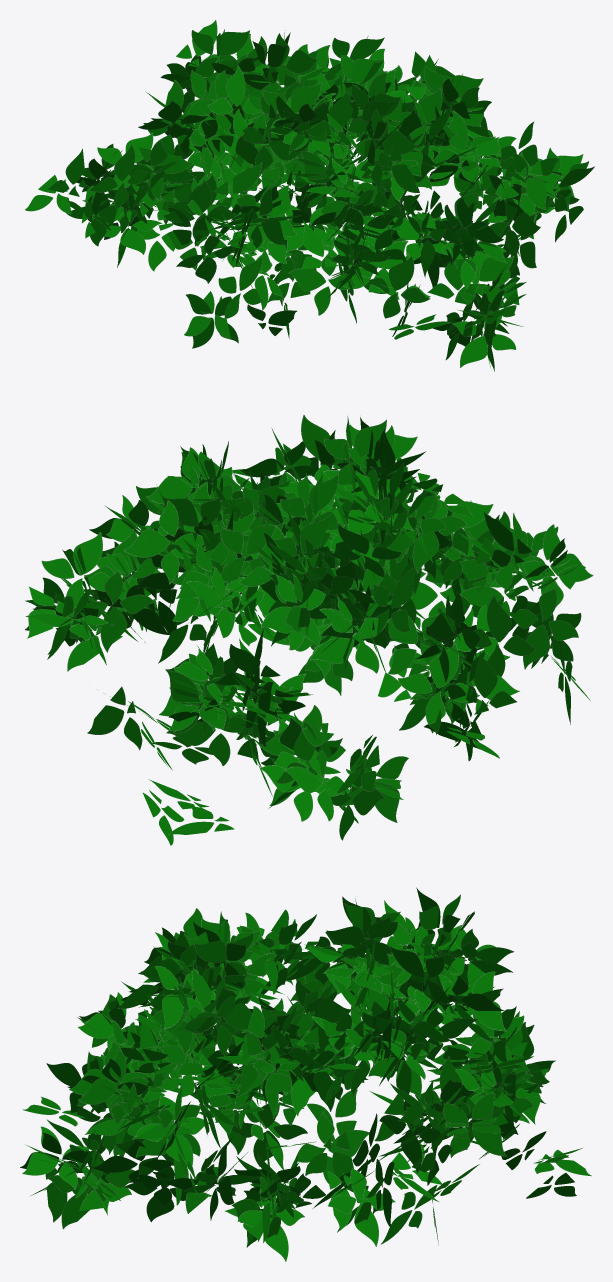
The model's file is MidLeafsLod.fbx.
3 renders of one model, top to bottom at view 1: azimuth 30°, elevation 25°; view 2: azimuth 150°, elevation 25°; view 3: azimuth 270°, elevation 25°, orthographic. The views are drawn at different scales.
Parts seen in each view (by area): view 1: Plane.001; view 2: Plane.001; view 3: Plane.001.
Boxes of the visible parts, x1,y1,x2,y2 form: Plane.001: (25, 20, 594, 371); Plane.001: (25, 415, 593, 845); Plane.001: (20, 887, 591, 1261).
Size of the model in its own units: 553 by 306 by 539.
